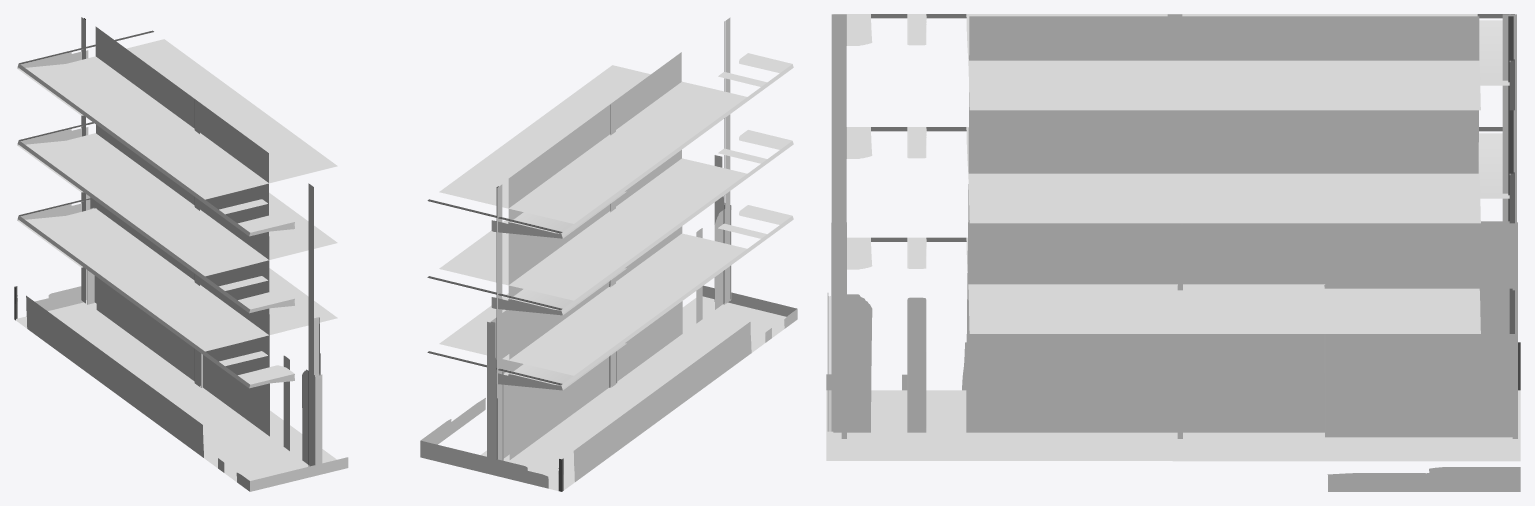
Rendered from SShelf_Mid.fbx.
3 views of the same model, side by side, from view 1: azimuth 30°, elevation 25°; view 2: azimuth 150°, elevation 25°; view 3: azimuth 270°, elevation 25° (orthographic). The views are drawn at different scales.
Parts seen in each view (by area): view 1: Plate3, Main, Base, Plate2, plate1, L_Leg, R_Leg, Mid_Leg; view 2: Plate3, Base, Main, Plate2, plate1, R_Leg, L_Leg, Mid_Leg; view 3: Main, Plate3, Plate2, plate1, Base, L_Leg, R_Leg, Mid_Leg.
Boxes of the visible parts, box(x1,y1,x2,y2) form: Plate3: box(17, 30, 337, 236); Main: box(84, 18, 319, 465); Base: box(14, 286, 348, 491); Plate2: box(17, 122, 337, 313); plate1: box(17, 198, 337, 388); L_Leg: box(308, 183, 322, 466); R_Leg: box(81, 17, 94, 304); Mid_Leg: box(194, 100, 202, 387); Plate3: box(427, 53, 793, 238); Base: box(420, 285, 797, 491); Main: box(490, 52, 725, 461); Plate2: box(427, 130, 793, 315); plate1: box(427, 205, 793, 390); R_Leg: box(487, 184, 503, 460); L_Leg: box(714, 17, 731, 304); Mid_Leg: box(609, 101, 617, 387); Main: box(833, 16, 1513, 437); Plate3: box(833, 14, 1514, 110); Plate2: box(846, 127, 1514, 223); plate1: box(847, 237, 1514, 333); Base: box(826, 342, 1520, 491); L_Leg: box(827, 14, 846, 438); R_Leg: box(1502, 14, 1517, 438); Mid_Leg: box(1164, 14, 1182, 438).
Bounding box in the file's own units: 0.8149 × 1.58 × 2.35.
